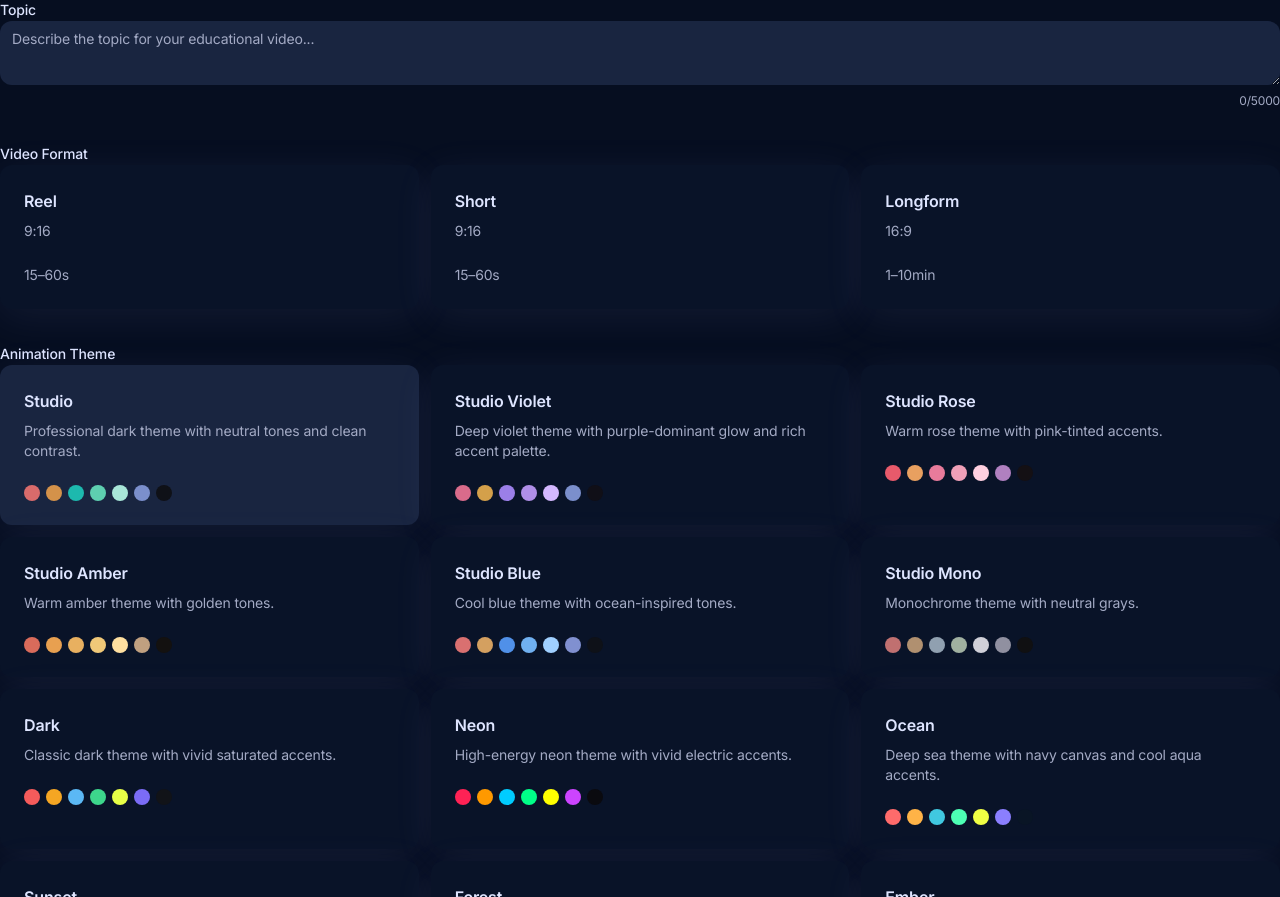
Scenario: PipelineWizard › shows validation error when no format is selected
The image size is (1280, 897).
Step 1. Type "A valid topic here" into the text box labelled "Topic" → (640, 53), box [0,21,1279,85]
(page scrolled)
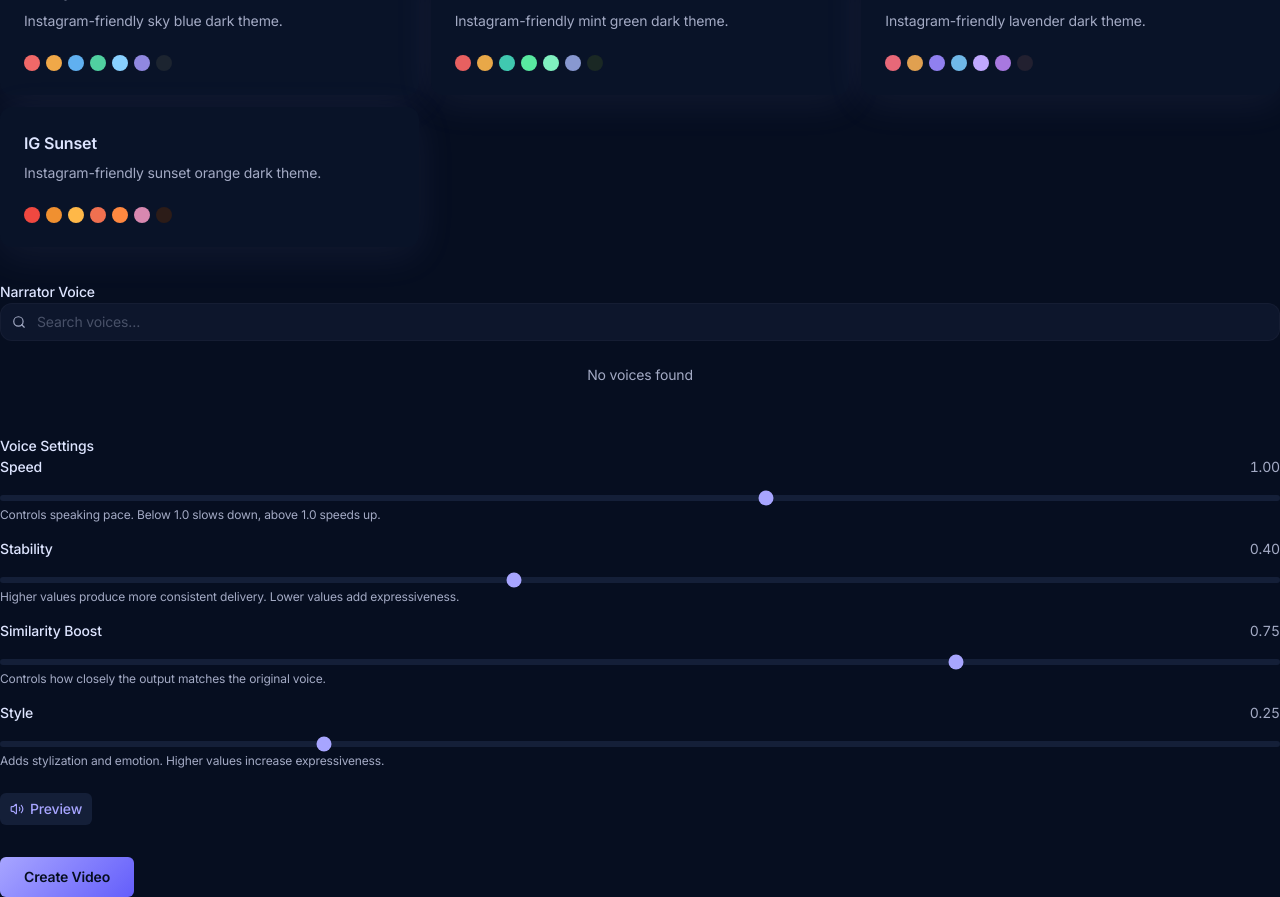
Step 2. Click the button "Create Video" → (67, 877), box [0,857,134,896]
(page scrolled)
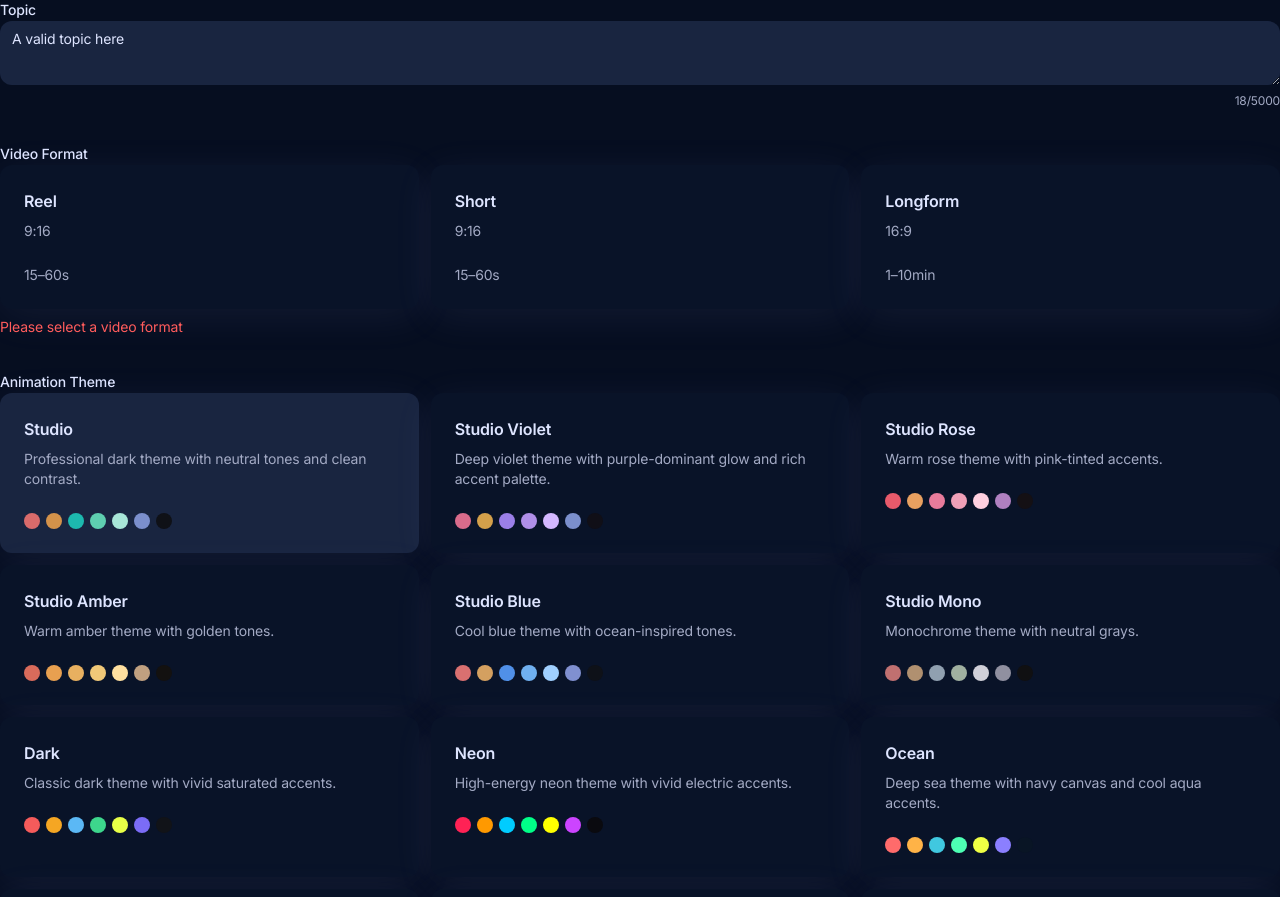
Expected: the text "Please select a video format" is shown, [0,318,183,335]
